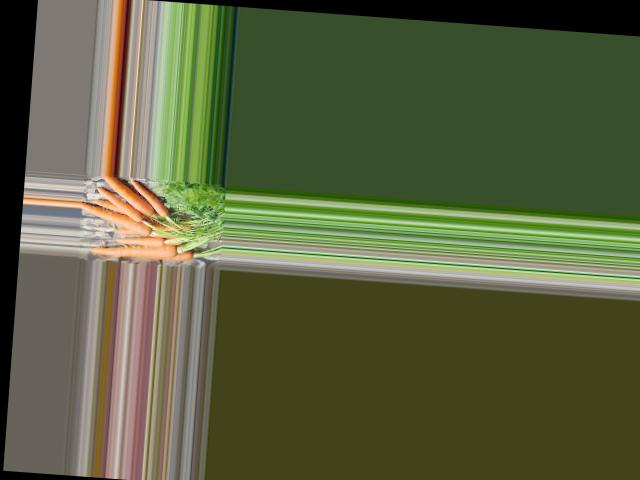carrot: (131, 180, 172, 217)
